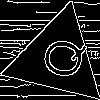Q: (32, 33, 88, 82)
